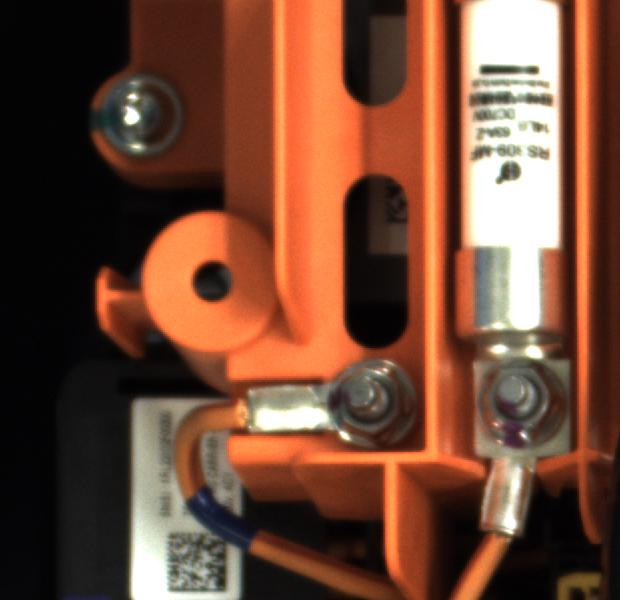screw_m: (87, 72, 194, 160)
screw_s: (472, 346, 576, 455), (328, 351, 424, 453)
